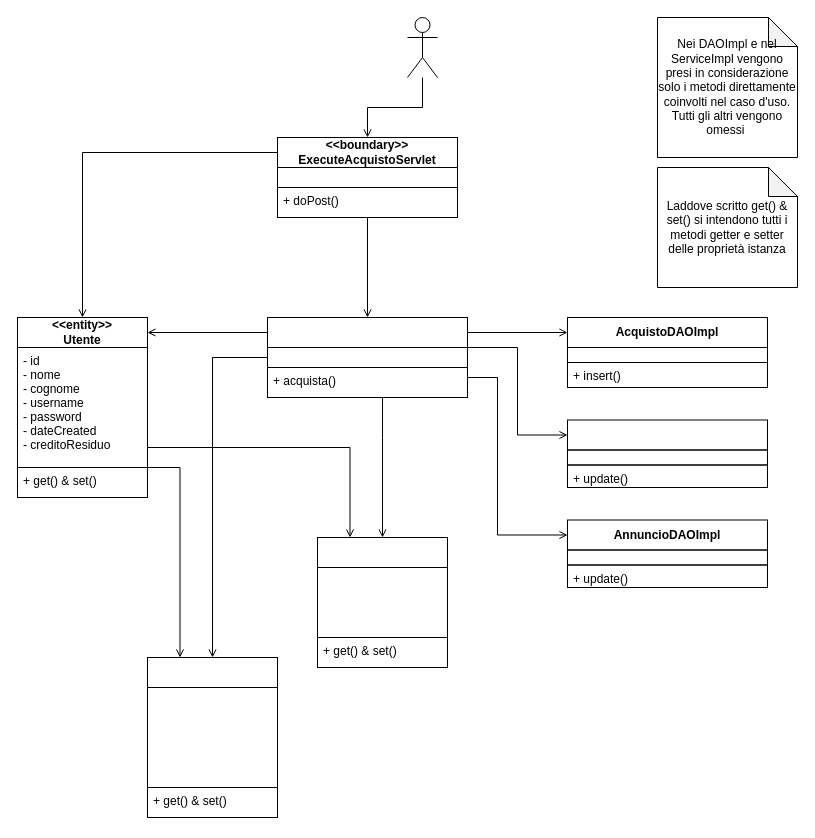
This 815x838 diagram has some shape labels left out. The shapes that lost their labels are listed below. From the top down, each one's centre as x and y in pixels, then its label:
At point 422,47: "Subscribed User".
At point 367,332: "<<control>> AcquistoServiceImpl".
At point 667,434: "UtenteDAOImpl".
At point 382,552: "<<entity>> Acquisto".
At point 382,602: "- id - descrizione - prezzo - data".
At point 212,672: "<<entity>> Annuncio".
At point 212,737: "- id - titolo - testoAnnuncio - prezzo - aperto - data".
